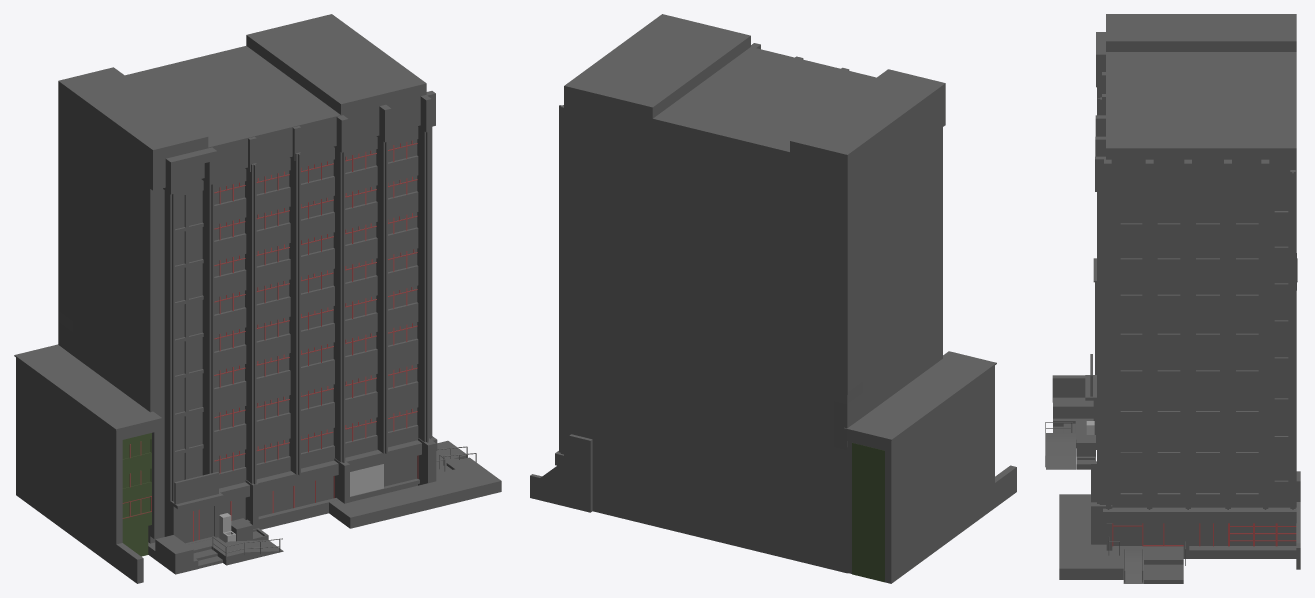
The model's file is sbs-buil.fbx.
3 views of the same model, side by side, from view 1: azimuth 30°, elevation 25°; view 2: azimuth 150°, elevation 25°; view 3: azimuth 270°, elevation 25° (orthographic). The views are drawn at different scales.
Visible parts, largest first — view 1: pCube83, pCube16, pCube81, pCube51, pCube54, pCube53, pCube52, pCube55, pCube56, pCube17, pCube50, pCube45 (+8 smaller); view 2: pCube83, pCube16, pCube17, pCube28, pCube76; view 3: pCube83, pCube81, pCube56, pCube76, pCube58, pCube59, pCube62, pCube60, pCube61, pCube45, pCube27, rampa (+7 smaller).
Part boxes in pixels (<box>): pCube83: <box>58,14,437,543</box>; pCube16: <box>14,344,162,583</box>; pCube81: <box>329,457,501,528</box>; pCube51: <box>202,181,214,475</box>; pCube54: <box>333,148,345,462</box>; pCube53: <box>289,152,300,475</box>; pCube52: <box>245,163,256,484</box>; pCube55: <box>376,137,387,453</box>; pCube56: <box>417,127,428,442</box>; pCube17: <box>122,433,151,556</box>; pCube50: <box>164,190,174,501</box>; pCube45: <box>148,492,223,574</box>; pCube83: <box>555,14,945,573</box>; pCube16: <box>844,351,1016,583</box>; pCube17: <box>852,443,884,582</box>; pCube28: <box>530,434,592,512</box>; pCube76: <box>559,105,563,454</box>; pCube83: <box>1103,14,1296,558</box>; pCube81: <box>1059,494,1123,579</box>; pCube56: <box>1097,192,1111,504</box>; pCube76: <box>1290,170,1295,509</box>; pCube58: <box>1106,196,1111,509</box>; pCube59: <box>1147,196,1152,509</box>; pCube62: <box>1263,196,1268,509</box>; pCube60: <box>1185,196,1190,509</box>; pCube61: <box>1225,196,1230,509</box>; pCube45: <box>1053,375,1096,449</box>; pCube27: <box>1144,550,1183,583</box>; rampa: <box>1046,433,1075,469</box>.
Bounding box in the file's own units: 690 × 707 × 403.
